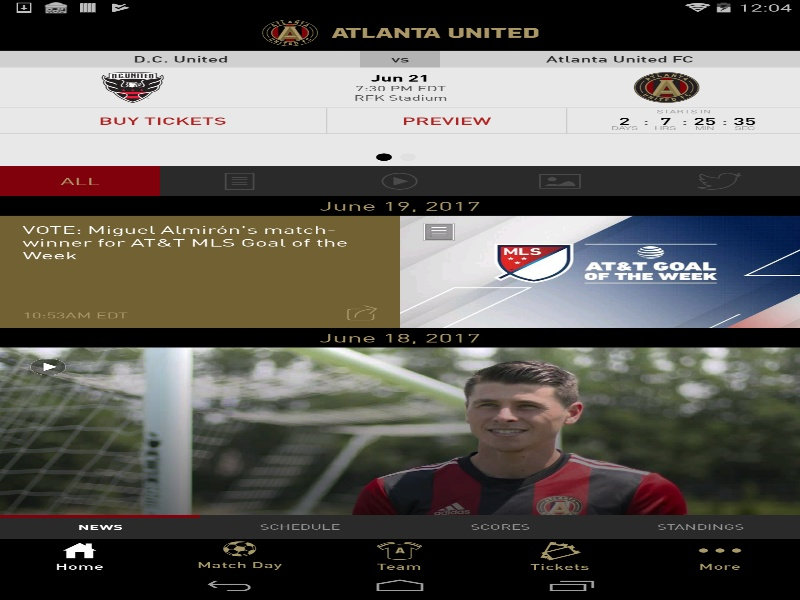Button: (21, 191, 778, 216), (744, 121, 800, 148), (717, 130, 733, 140)
Input: (227, 493, 744, 519), (227, 520, 744, 545), (227, 546, 744, 571), (227, 573, 744, 598), (669, 125, 745, 145)
